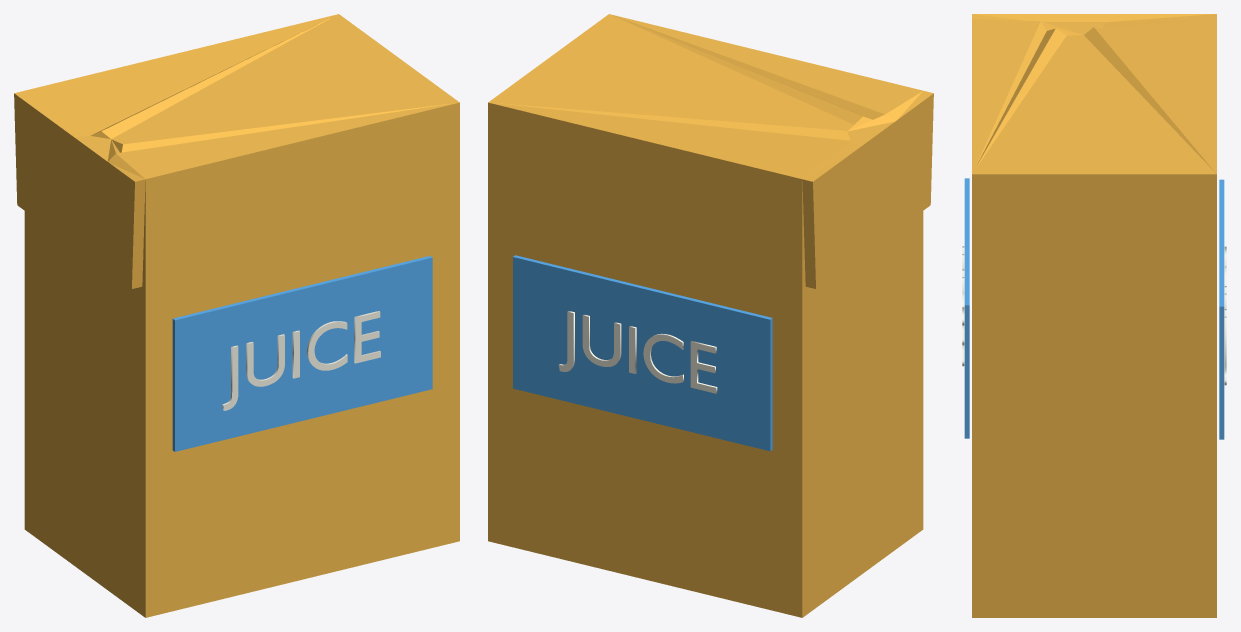
File: JuiceBoxOrange.dae
3 renders of one model, left to right at view 1: azimuth 30°, elevation 25°; view 2: azimuth 150°, elevation 25°; view 3: azimuth 270°, elevation 25°, orthographic.
Parts seen in each view (by area): view 1: JuiceBoxOrange.001, juice_box_back_panel, juice_box_back_text; view 2: JuiceBoxOrange.001, juice_box_front_panel, juice_box_front_text; view 3: JuiceBoxOrange.001, juice_box_back_panel, juice_box_front_panel, juice_box_front_text.
Part boxes in pixels (x1=…): JuiceBoxOrange.001: x1=14, y1=14, x2=459, y2=617; juice_box_back_panel: x1=172, y1=256, x2=432, y2=451; juice_box_back_text: x1=222, y1=311, x2=380, y2=410; JuiceBoxOrange.001: x1=488, y1=14, x2=933, y2=617; juice_box_front_panel: x1=513, y1=255, x2=772, y2=451; juice_box_front_text: x1=558, y1=311, x2=717, y2=393; JuiceBoxOrange.001: x1=972, y1=14, x2=1216, y2=617; juice_box_back_panel: x1=964, y1=178, x2=969, y2=438; juice_box_front_panel: x1=1219, y1=179, x2=1224, y2=439; juice_box_front_text: x1=1224, y1=246, x2=1226, y2=385.
Bounding box in the file's own units: 0.062 × 0.0432 × 0.08.
